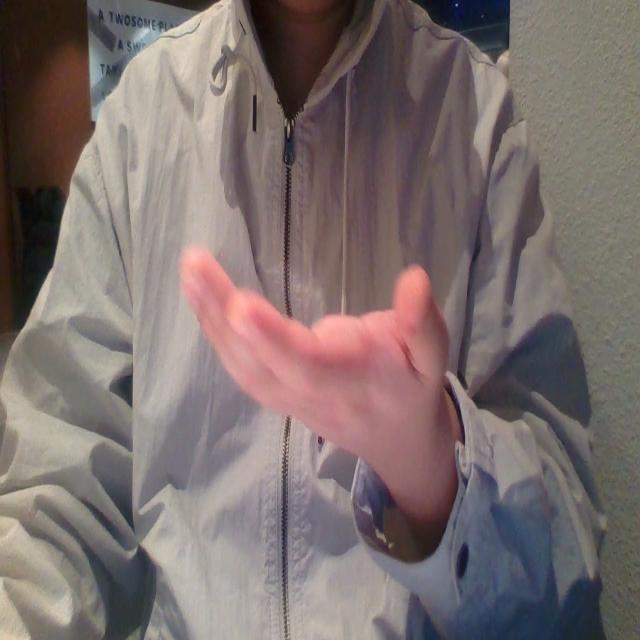hand: (163, 230, 480, 494)
